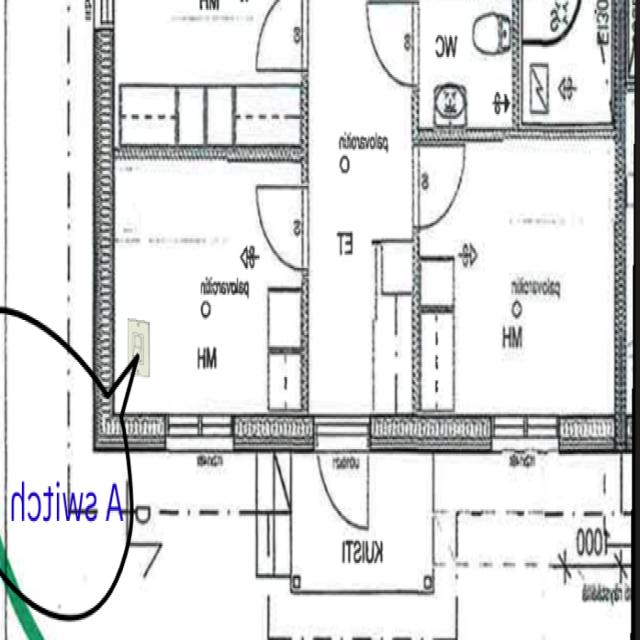switch: (124, 312, 152, 385)
wall: (90, 22, 119, 452), (366, 405, 494, 459), (230, 409, 317, 459), (555, 405, 625, 461), (86, 408, 168, 455)
